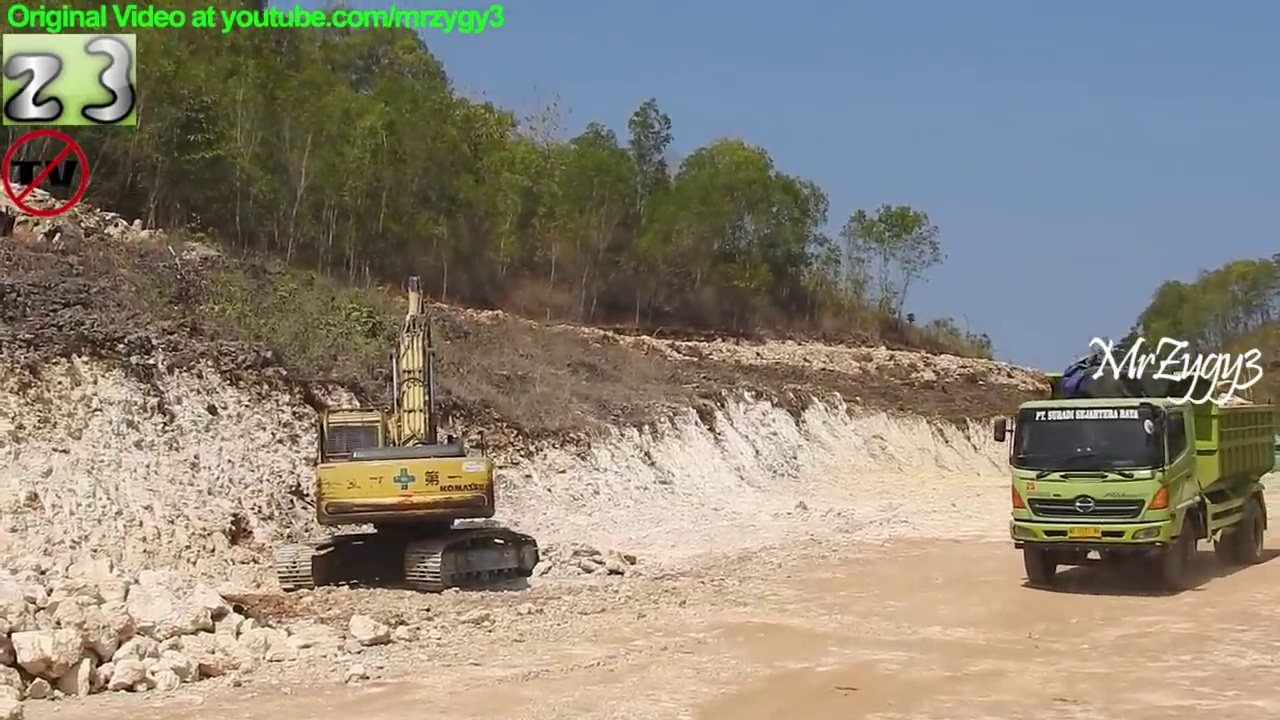excavator breaker: (268, 269, 547, 599)
truck: (988, 369, 1280, 598)
